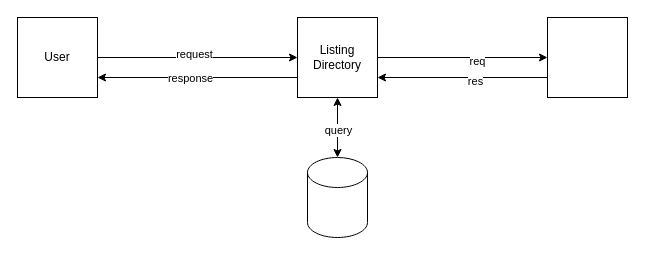
The diagram is 645 pixels wide and 255 high, and some of its shapes have lost their labels. Each missing label, with the box of its shape:
Admin: (546, 16, 628, 98)
Data store: (306, 156, 368, 238)
